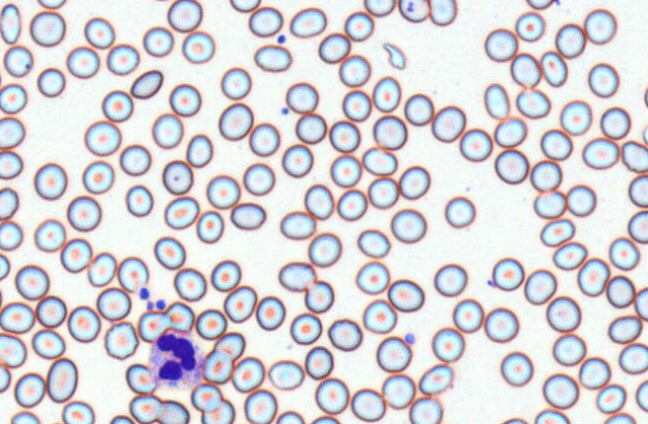GRAN: (148, 328, 203, 390)
PLT: (137, 286, 151, 300), (405, 331, 418, 346), (155, 298, 167, 310), (276, 34, 287, 44), (146, 298, 154, 310)
RBC: (46, 357, 77, 402), (542, 373, 579, 409), (545, 295, 581, 332), (84, 120, 121, 156), (103, 321, 138, 359), (218, 102, 253, 140), (29, 10, 65, 46), (314, 377, 349, 414), (223, 285, 257, 323), (33, 162, 67, 200), (376, 336, 411, 372), (14, 264, 49, 300), (372, 114, 407, 150), (66, 195, 101, 231), (390, 208, 426, 243), (67, 305, 101, 342), (387, 278, 424, 312), (431, 105, 465, 142), (577, 257, 609, 296), (205, 174, 240, 209), (381, 373, 415, 409), (494, 148, 528, 184), (583, 8, 617, 44), (484, 307, 518, 342), (96, 287, 131, 321), (243, 388, 277, 423), (350, 387, 385, 421), (307, 232, 341, 267), (231, 356, 264, 392), (523, 268, 556, 304), (163, 196, 199, 229), (559, 99, 592, 135), (582, 137, 619, 169), (289, 6, 326, 38), (278, 261, 316, 292), (362, 299, 396, 333), (355, 260, 389, 294), (484, 27, 518, 61), (500, 351, 533, 386), (431, 327, 464, 362), (327, 318, 362, 351), (13, 372, 45, 408), (60, 237, 92, 273), (117, 256, 149, 292), (151, 112, 183, 148), (267, 359, 304, 390), (253, 43, 292, 72), (173, 267, 206, 301), (491, 257, 524, 291), (552, 333, 586, 366), (81, 160, 114, 194), (433, 263, 467, 296), (459, 127, 492, 161), (0, 301, 35, 333), (418, 363, 453, 395), (167, 0, 202, 32), (587, 62, 619, 97), (279, 210, 316, 240), (242, 162, 275, 195), (168, 83, 201, 116), (181, 30, 214, 63), (281, 143, 313, 177), (398, 165, 430, 199), (248, 122, 280, 156), (162, 159, 193, 194), (510, 52, 541, 87), (555, 23, 586, 58), (515, 88, 550, 119), (248, 6, 283, 37), (361, 146, 397, 176), (304, 183, 334, 219), (372, 75, 401, 112), (289, 312, 322, 344), (578, 356, 610, 389), (153, 236, 185, 269), (101, 89, 133, 122), (338, 54, 370, 87), (328, 119, 360, 152), (83, 16, 115, 49), (285, 81, 318, 113), (66, 46, 99, 78), (106, 43, 139, 75), (31, 328, 65, 359), (608, 236, 639, 270), (452, 298, 483, 332), (34, 218, 65, 252), (330, 153, 361, 187), (202, 349, 232, 384), (255, 295, 285, 330), (230, 201, 266, 230), (539, 218, 575, 247), (530, 159, 562, 191), (119, 144, 151, 176), (540, 128, 572, 160), (137, 311, 170, 342), (35, 295, 66, 328), (367, 176, 398, 209), (444, 195, 475, 228), (220, 66, 251, 99), (600, 106, 631, 139), (403, 92, 433, 126), (356, 228, 390, 258), (87, 251, 116, 286), (552, 241, 587, 270), (540, 50, 567, 87), (195, 308, 226, 340), (210, 259, 241, 291), (295, 112, 326, 144), (336, 189, 367, 221), (318, 32, 350, 63), (566, 184, 596, 217), (493, 117, 526, 147), (3, 44, 33, 77), (128, 394, 162, 423), (304, 279, 333, 313), (304, 345, 333, 379), (483, 82, 509, 119), (125, 363, 156, 394), (142, 26, 173, 57), (190, 382, 222, 412), (341, 89, 371, 121), (533, 189, 566, 218), (606, 275, 635, 308), (608, 315, 642, 343), (185, 133, 213, 167), (595, 383, 626, 413), (213, 331, 245, 360), (196, 210, 224, 243), (125, 184, 153, 217), (408, 396, 442, 423), (0, 333, 26, 368), (515, 11, 545, 41), (344, 11, 374, 41), (618, 343, 647, 374), (36, 67, 65, 97), (0, 3, 21, 44), (200, 398, 234, 423), (0, 83, 27, 114), (621, 140, 647, 172), (0, 116, 25, 149), (157, 399, 189, 423), (61, 400, 94, 423), (0, 219, 23, 250), (428, 0, 456, 25), (398, 0, 429, 22), (0, 150, 23, 179), (627, 210, 647, 243), (0, 186, 19, 219), (628, 174, 647, 207), (534, 408, 570, 423), (363, 0, 395, 16), (634, 286, 647, 320), (635, 379, 647, 412), (10, 410, 40, 423), (275, 410, 304, 423), (229, 0, 260, 12), (603, 412, 636, 423), (0, 364, 11, 393), (525, 0, 554, 10), (0, 253, 10, 280), (36, 0, 66, 9), (310, 415, 340, 423), (108, 414, 134, 423), (499, 416, 528, 423), (642, 122, 648, 146), (643, 84, 648, 108), (150, 0, 173, 1)
Schistocyte: (165, 304, 194, 334), (130, 72, 163, 98), (380, 41, 406, 72)
